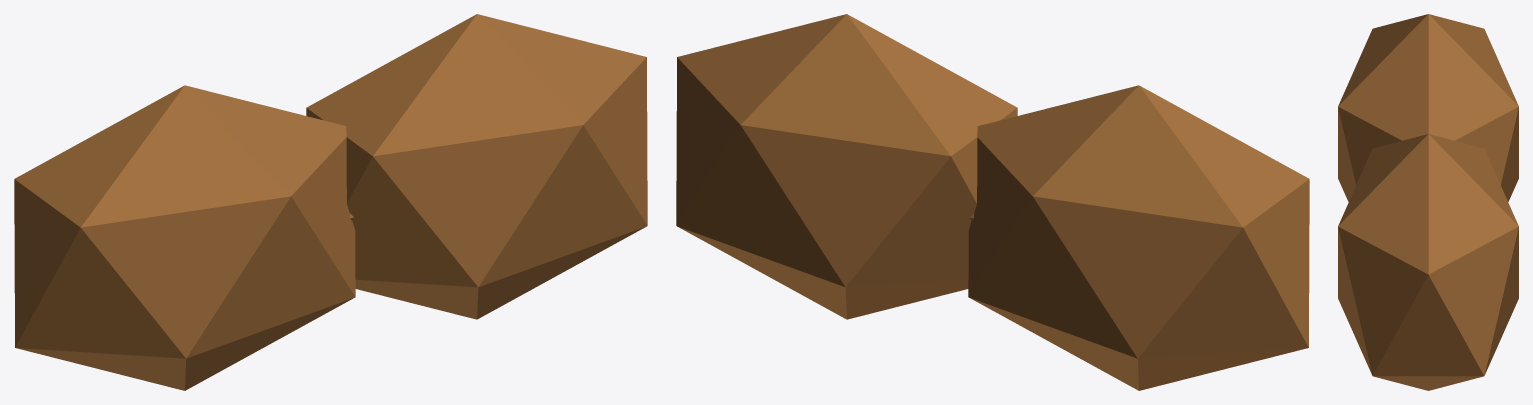
Rendered from harvest_drop_peanut.glb.
The picture shows the model from 3 angles, left to right: view 1: azimuth 30°, elevation 25°; view 2: azimuth 150°, elevation 25°; view 3: azimuth 270°, elevation 25°; orthographic projection. The views are drawn at different scales.
Visible parts, largest first — view 1: FTF_Harvest_Drop_Peanut_Cluster_Mesh; view 2: FTF_Harvest_Drop_Peanut_Cluster_Mesh; view 3: FTF_Harvest_Drop_Peanut_Cluster_Mesh.
Boxes of the visible parts, x1=… form: FTF_Harvest_Drop_Peanut_Cluster_Mesh: x1=14, y1=14, x2=647, y2=390; FTF_Harvest_Drop_Peanut_Cluster_Mesh: x1=676, y1=14, x2=1309, y2=390; FTF_Harvest_Drop_Peanut_Cluster_Mesh: x1=1338, y1=14, x2=1518, y2=390.
Bounding box in the file's own units: 0.4326 × 0.2 × 0.1276.
